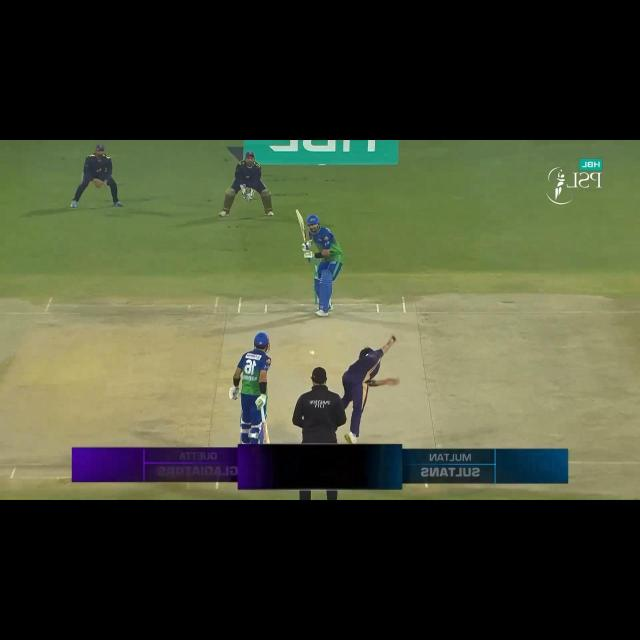bat: (294, 209, 309, 243), (261, 423, 271, 446)
toe: (294, 208, 301, 216)
